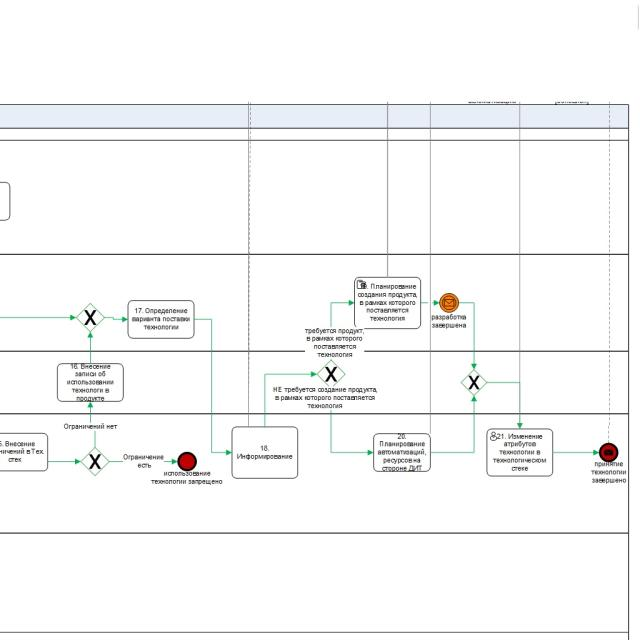arrow: (194, 316, 232, 458), (260, 368, 316, 426), (430, 397, 477, 456), (326, 412, 373, 458), (486, 377, 525, 427), (459, 300, 482, 366), (106, 452, 178, 470), (0, 310, 76, 324), (326, 297, 354, 328), (86, 402, 100, 447), (82, 330, 96, 365), (553, 448, 599, 458), (48, 456, 82, 468), (106, 312, 128, 324), (420, 298, 440, 308)
circle: (177, 452, 196, 471), (599, 443, 618, 461), (440, 294, 459, 312)
diamond: (77, 304, 104, 331), (82, 448, 109, 474), (317, 360, 344, 386), (461, 370, 486, 395)
rectangle: (354, 277, 421, 328), (232, 427, 298, 478), (487, 429, 553, 476), (57, 363, 123, 403), (128, 300, 194, 338), (373, 432, 430, 472)
text_region: (272, 383, 386, 412), (300, 326, 365, 357), (151, 470, 225, 489), (588, 459, 628, 489), (124, 448, 165, 468), (430, 311, 469, 330), (63, 420, 117, 432)
